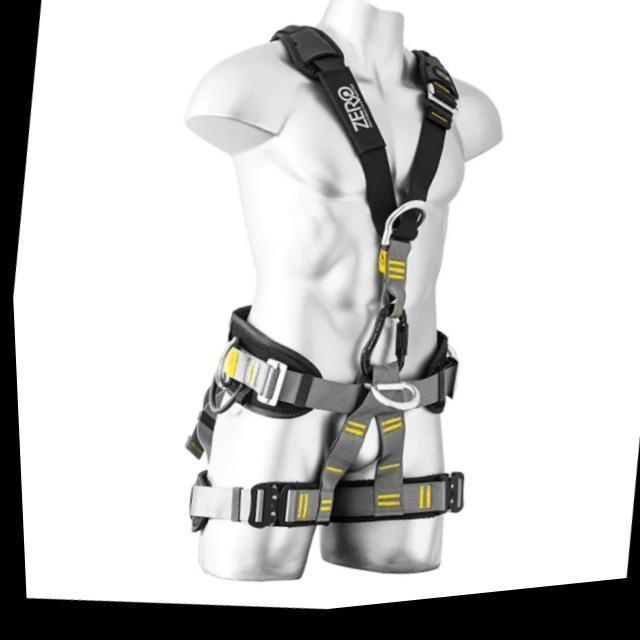Arnes_seguridad: (185, 21, 465, 579)
